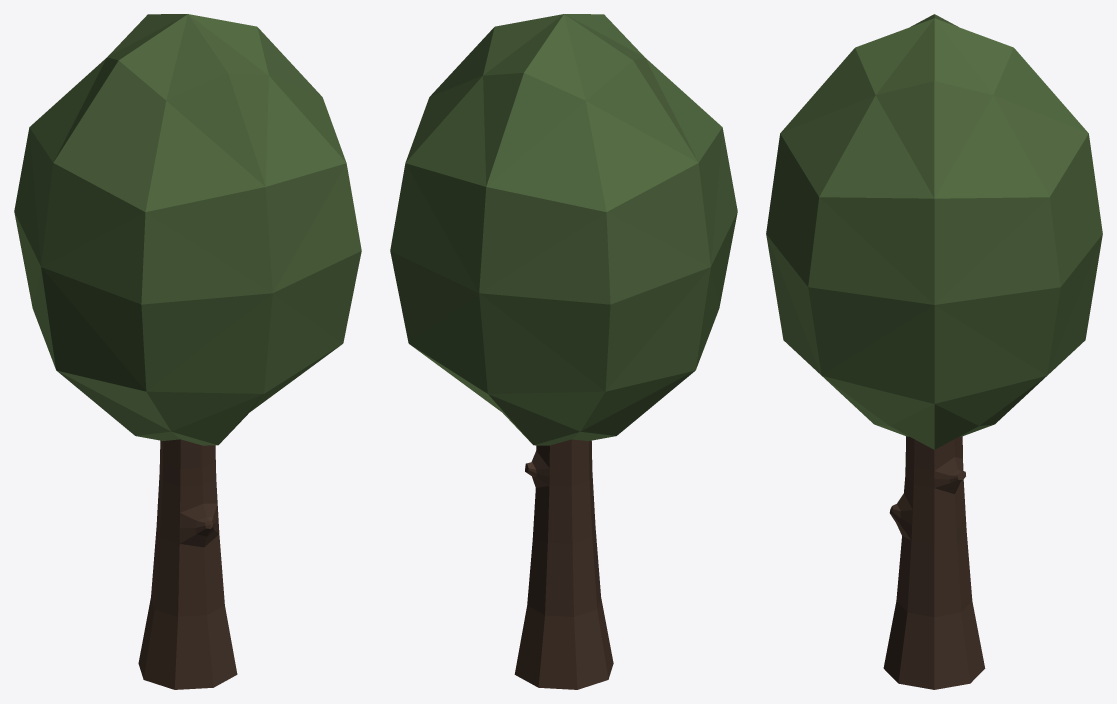
The model's file is tree_1.fbx.
The picture shows the model from 3 angles, left to right: view 1: azimuth 30°, elevation 25°; view 2: azimuth 150°, elevation 25°; view 3: azimuth 270°, elevation 25°; orthographic projection.
Visible parts, largest first — view 1: treetop, treetrunk; view 2: treetop, treetrunk; view 3: treetop, treetrunk.
Part boxes in pixels (bbox=[...]): treetop: bbox=[14, 14, 361, 445]; treetrunk: bbox=[138, 439, 237, 689]; treetop: bbox=[390, 14, 737, 445]; treetrunk: bbox=[514, 439, 613, 689]; treetop: bbox=[766, 14, 1102, 449]; treetrunk: bbox=[883, 436, 985, 689].
Bounding box in the file's own units: 13.97 × 29.76 × 13.97.
